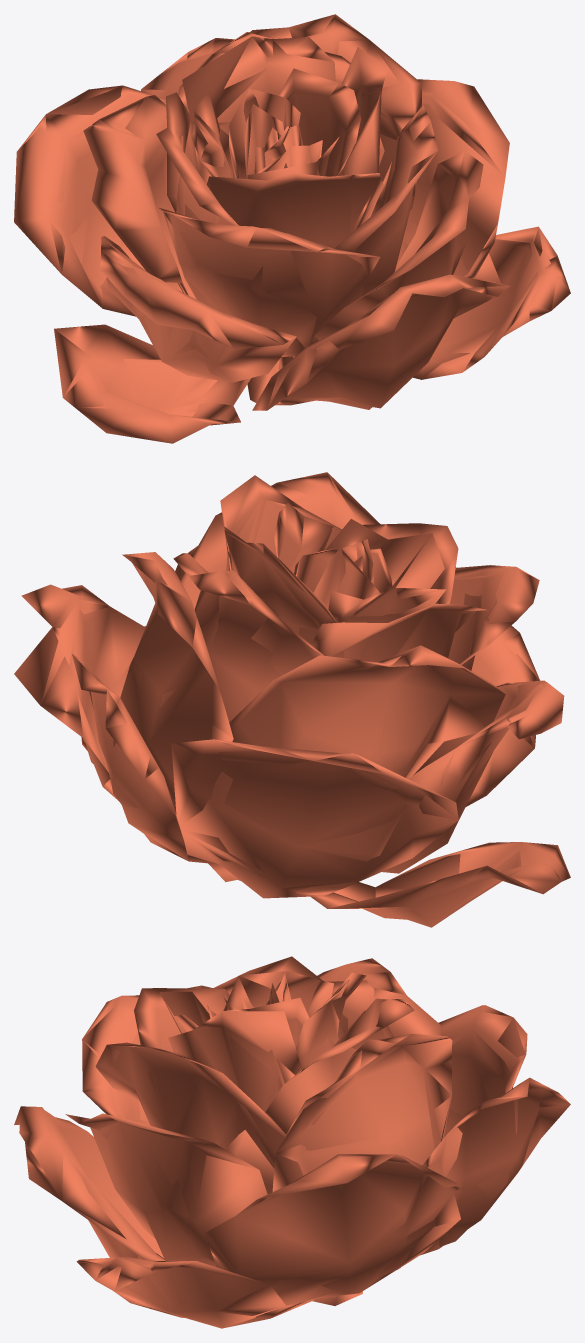
File: rose NEW DOWN.fbx
The picture shows the model from 3 angles, top to bottom: view 1: azimuth 30°, elevation 25°; view 2: azimuth 150°, elevation 25°; view 3: azimuth 270°, elevation 25°; orthographic projection. The views are drawn at different scales.
Visible parts, largest first — view 1: ruža; view 2: ruža; view 3: ruža.
Part boxes in pixels (x1=…): ruža: x1=14, y1=14, x2=570, y2=443; ruža: x1=14, y1=472, x2=570, y2=927; ruža: x1=14, y1=956, x2=570, y2=1328.
Bounding box in the file's own units: 41.3 × 44.76 × 29.74.
